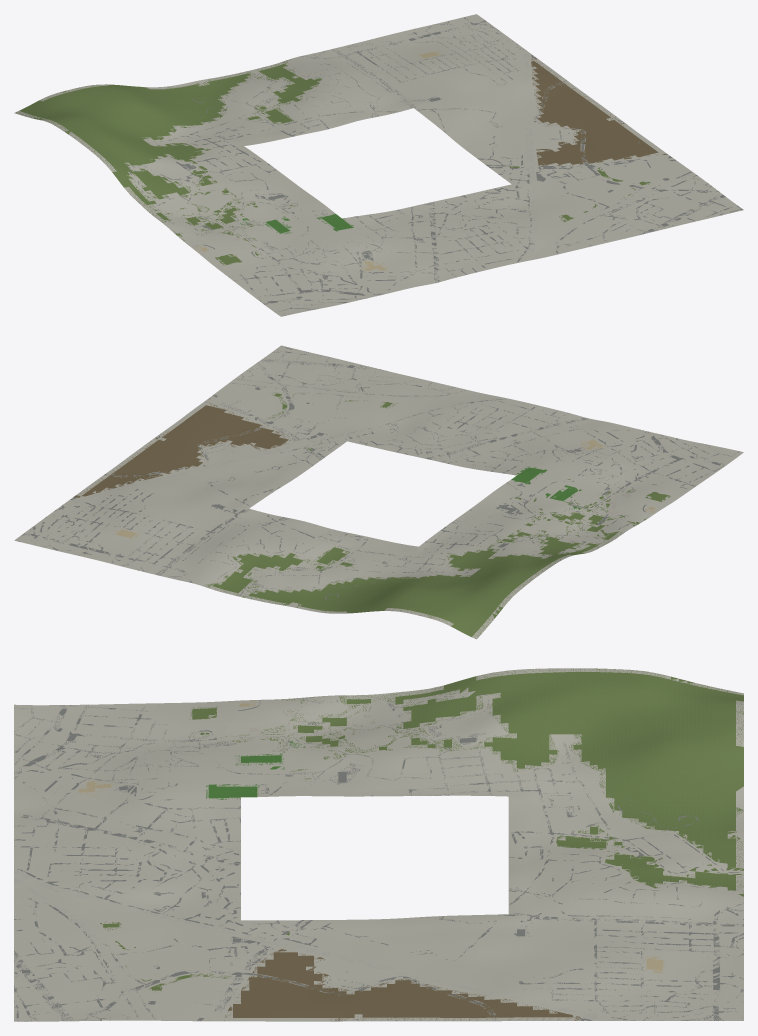
The picture shows the model from 3 angles, top to bottom: view 1: azimuth 30°, elevation 25°; view 2: azimuth 150°, elevation 25°; view 3: azimuth 270°, elevation 25°; orthographic projection. The views are drawn at different scales.
Parts seen in each view (by area): view 1: ground-city, ground-wood, ground-asphalt-overlay, ground-construction, ground-grass, ground-bank, ground-wood-overlay, ground-stonebank-overlay, ground-grass-overlay, ground-sidewalk-overlay; view 2: ground-city, ground-wood, ground-asphalt-overlay, ground-construction, ground-grass, ground-bank, ground-wood-overlay, ground-stonebank-overlay, ground-grass-overlay, ground-sidewalk-overlay; view 3: ground-city, ground-wood, ground-asphalt-overlay, ground-construction, ground-bank, ground-grass, ground-wood-overlay, ground-stonebank-overlay, ground-grass-overlay, ground-sidewalk-overlay, ground-sportsTurf, ground-parking-overlay (+1 smaller).
Part boxes in pixels (x1,y1,x2,y2): ground-city: (14,14,743,316); ground-wood: (64,64,321,229); ground-asphalt-overlay: (129,17,743,315); ground-construction: (532,63,658,164); ground-grass: (22,94,646,264); ground-bank: (19,84,186,187); ground-wood-overlay: (21,59,322,241); ground-stonebank-overlay: (520,47,691,261); ground-grass-overlay: (16,75,650,265); ground-sidewalk-overlay: (264,19,724,304); ground-city: (14,345,743,639); ground-wood: (213,513,616,615); ground-asphalt-overlay: (18,346,739,599); ground-construction: (85,405,288,494); ground-grass: (274,393,667,633); ground-bank: (346,551,585,636); ground-wood-overlay: (205,512,647,630); ground-stonebank-overlay: (58,380,505,508); ground-grass-overlay: (248,392,670,638); ground-sidewalk-overlay: (21,359,727,583); ground-city: (14,668,743,1021); ground-wood: (298,672,735,890); ground-asphalt-overlay: (14,692,743,1021); ground-construction: (233,952,565,1017); ground-bank: (444,674,743,791); ground-grass: (103,672,735,990); ground-wood-overlay: (270,668,743,896); ground-stonebank-overlay: (14,868,629,1020); ground-grass-overlay: (100,669,743,991); ground-sidewalk-overlay: (14,705,743,1021); ground-sportsTurf: (208,755,281,798); ground-parking-overlay: (90,700,711,1020).
Bounding box in the file's own units: 1440 × 99.87 × 1440.
Materials: 24 (24 with a texture image).
